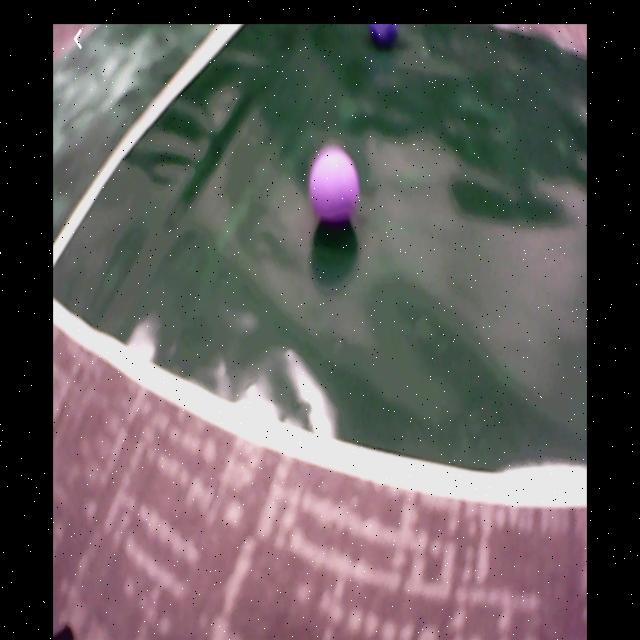ball: (309, 144, 359, 222), (370, 22, 399, 54)
